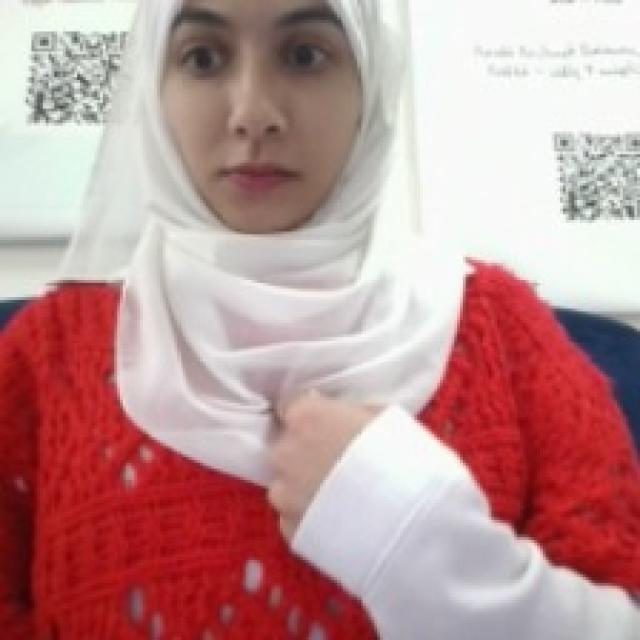me: (262, 376, 401, 552)
